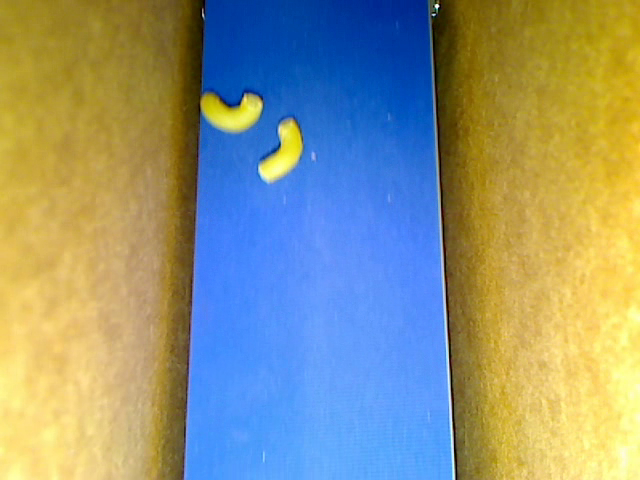elbow: (257, 117, 303, 183), (200, 92, 261, 132)
